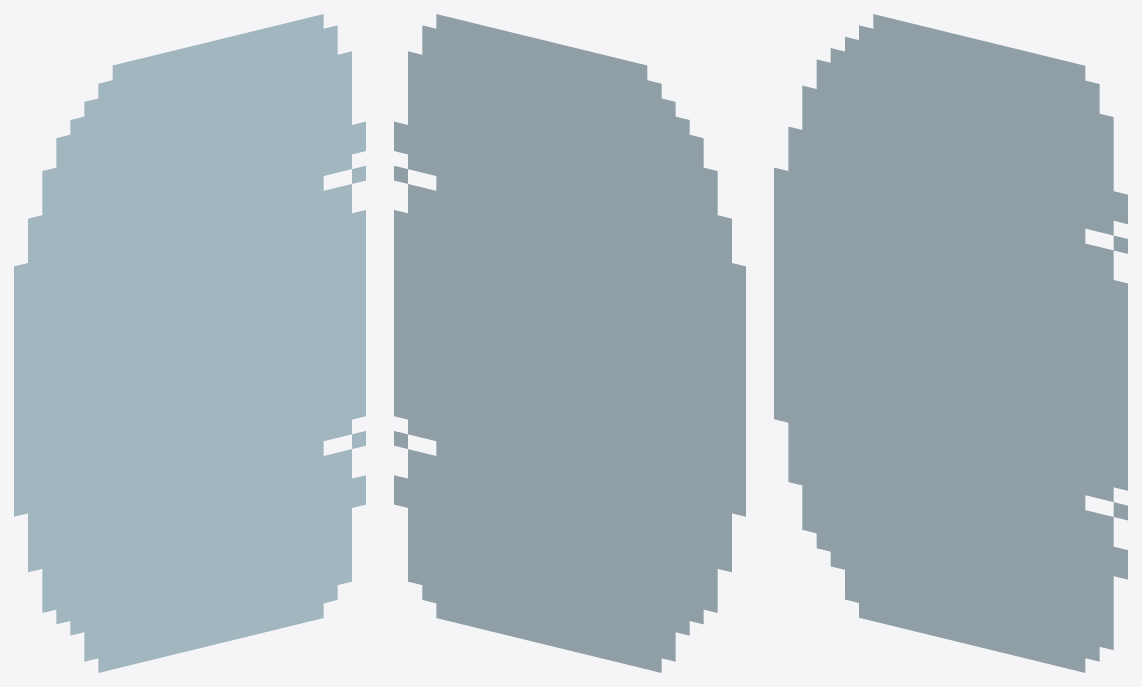
File: wp_water_186.obj
3 views of the same model, side by side, from view 1: azimuth 30°, elevation 25°; view 2: azimuth 150°, elevation 25°; view 3: azimuth 330°, elevation 25° (orthographic).
Bounding box in the file's own units: 0.366 × 0.6002 × 0.
1 material, 1 textured.
